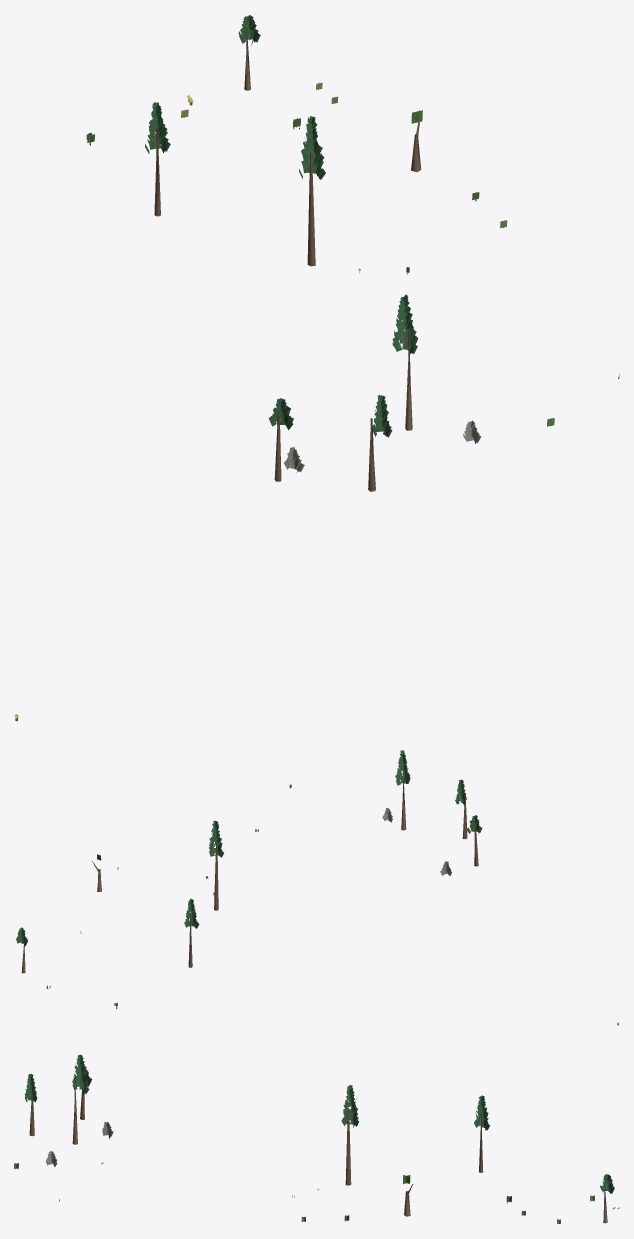
The model's file is arch_land_scatter_c22_18_lod1.glb.
The picture shows the model from 3 angles, top to bottom: view 1: azimuth 30°, elevation 25°; view 2: azimuth 150°, elevation 25°; view 3: azimuth 270°, elevation 25°; orthographic projection. The views are drawn at different scales.
Visible parts, largest first — view 1: arch_land_scatter_c22_18_lod1; view 2: arch_land_scatter_c22_18_lod1; view 3: arch_land_scatter_c22_18_lod1.
Boxes of the visible parts, x1,y1,x2,y2 form: arch_land_scatter_c22_18_lod1: (14, 15, 619, 721); arch_land_scatter_c22_18_lod1: (16, 750, 618, 1025); arch_land_scatter_c22_18_lod1: (14, 1054, 619, 1224).
Size of the model in its own units: 67.74 by 35.46 by 81.52.
